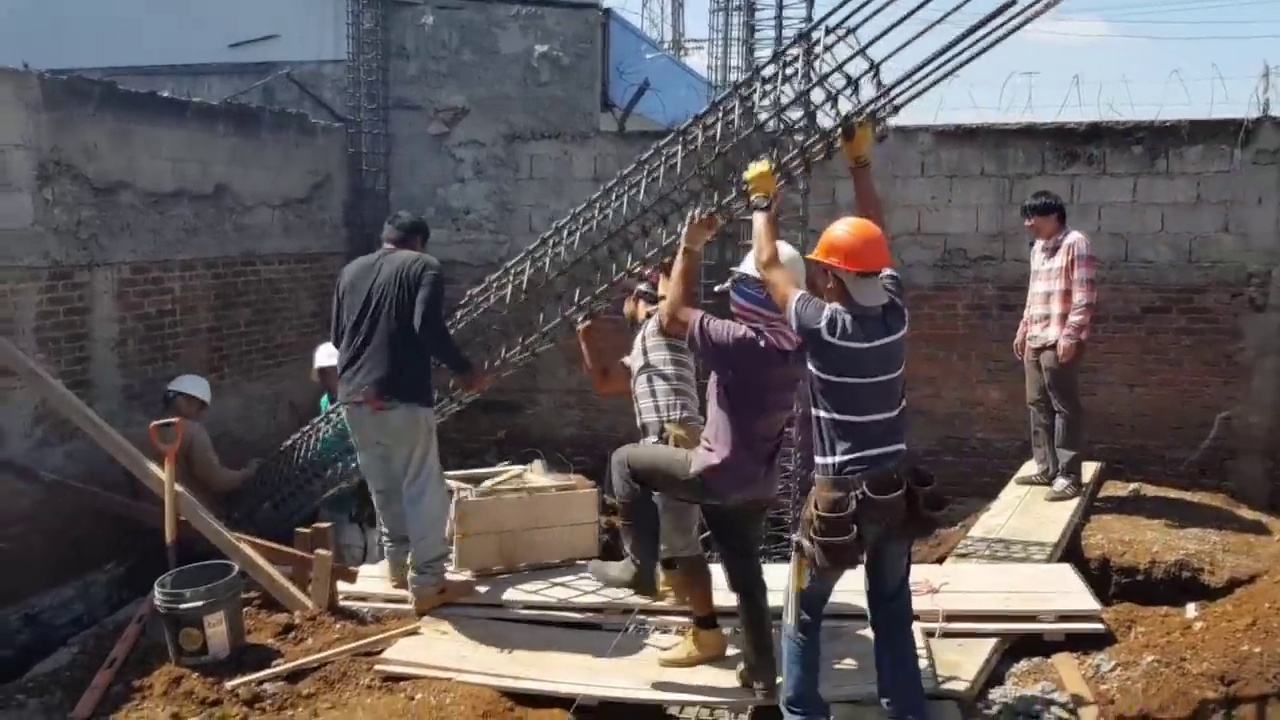helmet: (807, 217, 896, 276), (732, 237, 803, 287), (166, 374, 212, 405), (306, 340, 340, 369)
helmet-off: (373, 211, 428, 256), (1027, 191, 1072, 242)
helmet-on: (808, 217, 899, 324), (715, 235, 804, 329), (157, 372, 213, 419), (306, 342, 341, 398)
person: (739, 120, 945, 720), (590, 216, 807, 695), (576, 203, 731, 676), (334, 208, 480, 659), (1012, 191, 1104, 530), (308, 342, 383, 569), (148, 372, 263, 519)
